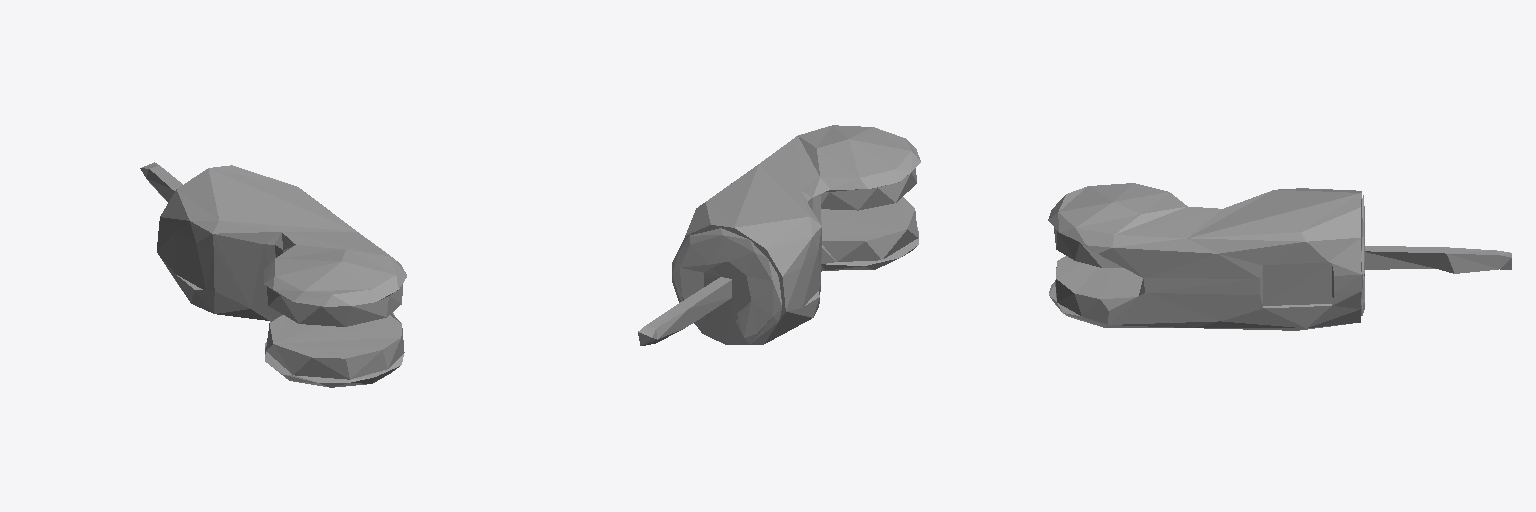
Rendered from l_upper_arm_roll_link.OBJ.
The picture shows the model from 3 angles: view 1: azimuth 30°, elevation 25°; view 2: azimuth 150°, elevation 25°; view 3: azimuth 270°, elevation 25°; orthographic projection.
Parts seen in each view (by area): view 1: /ambf/env/pr2/l_upper_arm_roll_link_/ambf/env/pr2/l_upper_arm_ro; view 2: /ambf/env/pr2/l_upper_arm_roll_link_/ambf/env/pr2/l_upper_arm_ro; view 3: /ambf/env/pr2/l_upper_arm_roll_link_/ambf/env/pr2/l_upper_arm_ro.
Boxes of the visible parts, x1,y1,x2,y2 form: /ambf/env/pr2/l_upper_arm_roll_link_/ambf/env/pr2/l_upper_arm_ro: [140, 162, 406, 387]; /ambf/env/pr2/l_upper_arm_roll_link_/ambf/env/pr2/l_upper_arm_ro: [638, 125, 920, 345]; /ambf/env/pr2/l_upper_arm_roll_link_/ambf/env/pr2/l_upper_arm_ro: [1048, 183, 1511, 330].
Bounding box in the file's own units: 0.1685 × 0.1523 × 0.536.